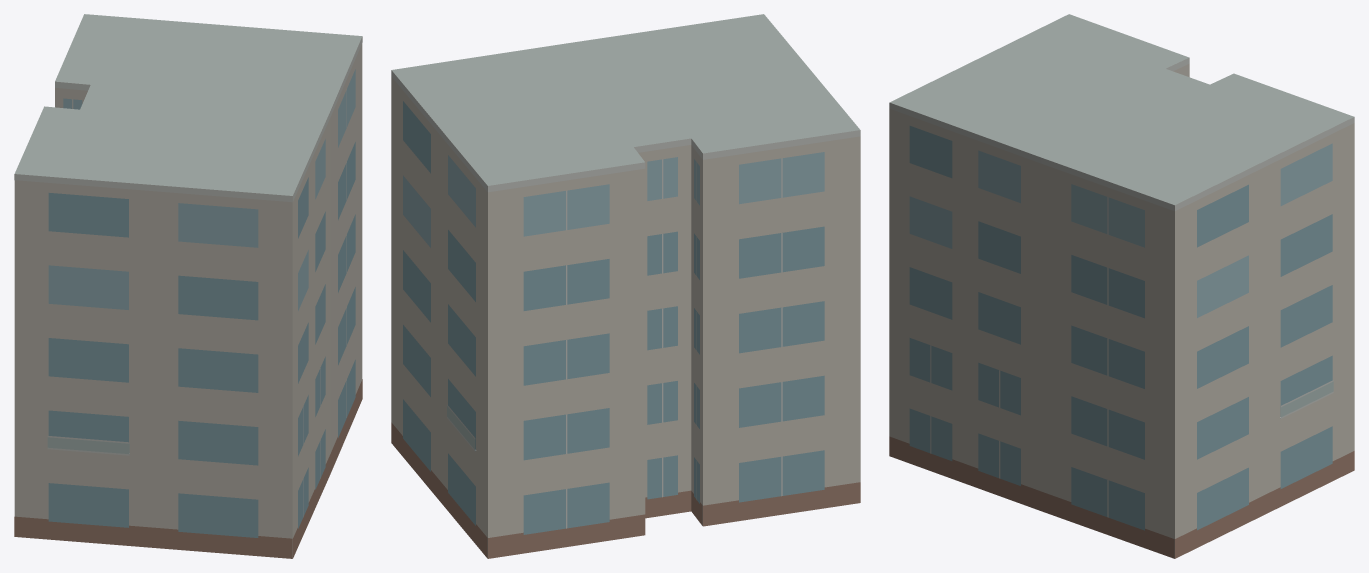
Rendered from survey-upis-32539864.glb.
3 views of the same model, side by side, from view 1: azimuth 30°, elevation 25°; view 2: azimuth 150°, elevation 25°; view 3: azimuth 270°, elevation 25° (orthographic). The views are drawn at different scales.
Parts seen in each view (by area): view 1: survey-upis-32539864.tmp; view 2: survey-upis-32539864.tmp; view 3: survey-upis-32539864.tmp.
Part boxes in pixels (<box>): survey-upis-32539864.tmp: <box>14,14,362,558</box>; survey-upis-32539864.tmp: <box>391,14,860,558</box>; survey-upis-32539864.tmp: <box>889,14,1354,558</box>.
Bounding box in the file's own units: 16.6 × 14.3 × 17.06.
